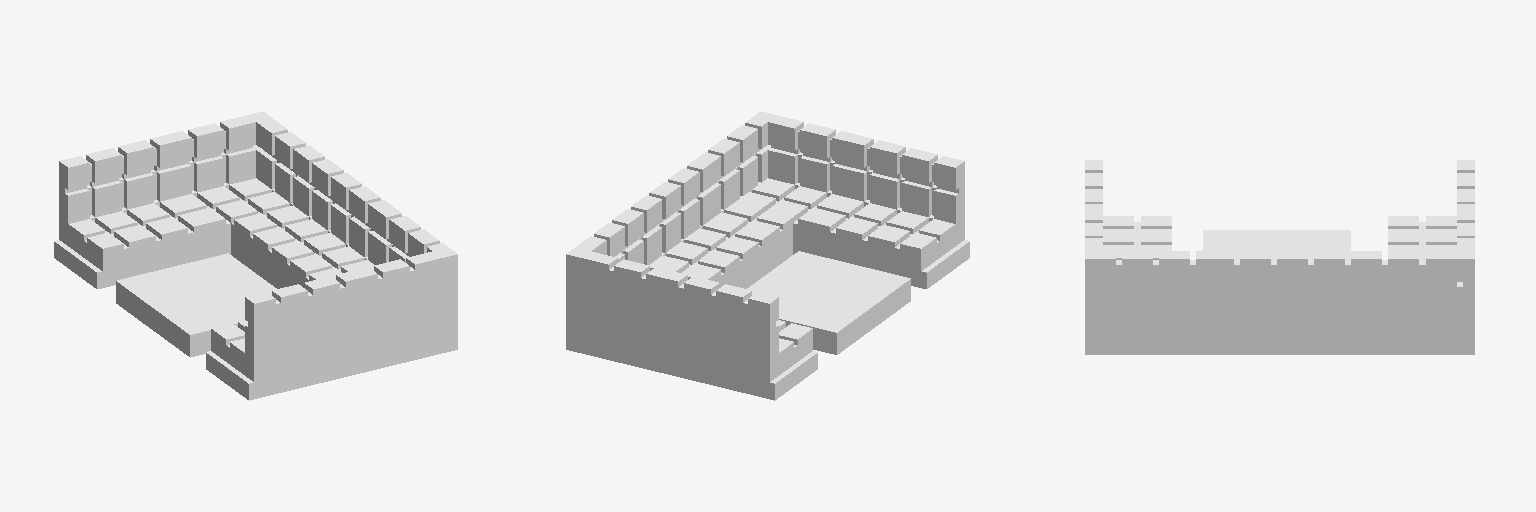
Rendered from Bar1-0.obj.
3 renders of one model, left to right at view 1: azimuth 30°, elevation 25°; view 2: azimuth 150°, elevation 25°; view 3: azimuth 270°, elevation 25°, orthographic.
Parts seen in each view (by area): view 1: object 1; view 2: object 1; view 3: object 1.
Part boxes in pixels (left/top/right/bottom): object 1: left=54, top=111, right=457, bottom=400; object 1: left=566, top=111, right=969, bottom=400; object 1: left=1085, top=160, right=1474, bottom=354.
Size of the model in its own units: 3.9 by 1.7 by 6.3.